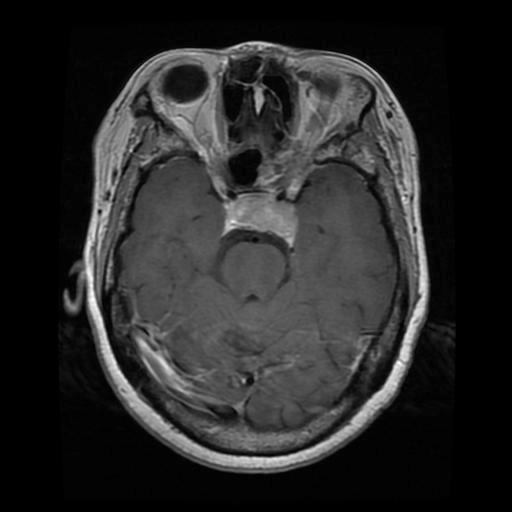Tumour-Pituitary: (204, 196, 319, 245)
